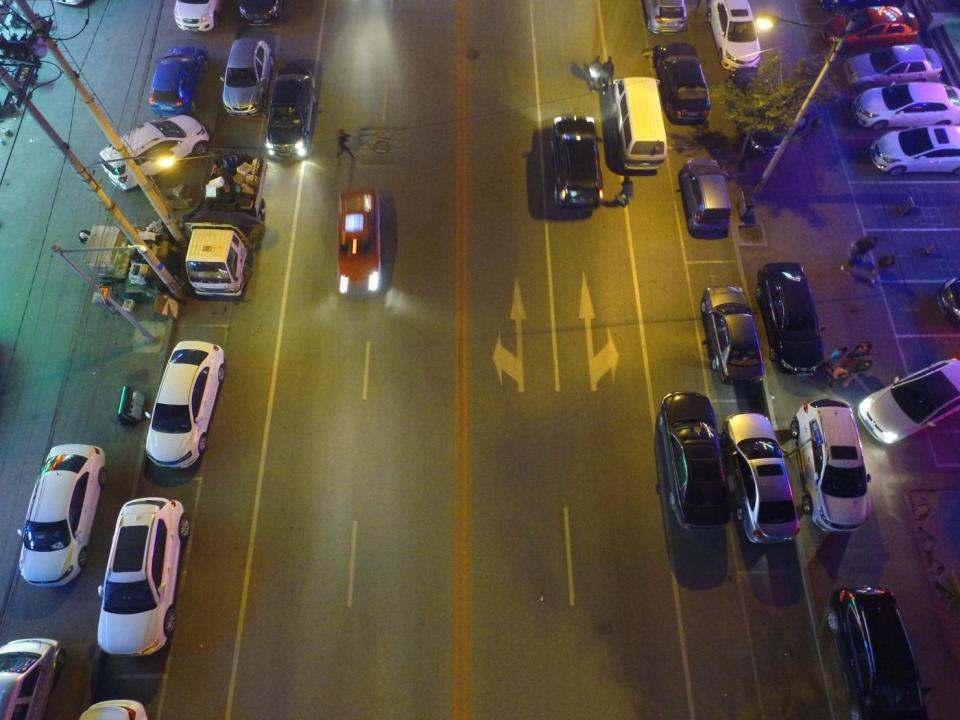car: (100, 496, 190, 658), (827, 586, 930, 717), (16, 443, 106, 588), (655, 392, 733, 534), (788, 400, 870, 533), (144, 339, 226, 468), (722, 414, 802, 542), (859, 358, 957, 447), (754, 262, 826, 376), (695, 286, 767, 387), (726, 67, 790, 157), (854, 81, 960, 130), (336, 189, 384, 297), (652, 42, 713, 125), (0, 640, 65, 714), (268, 67, 316, 164), (871, 123, 960, 174), (846, 42, 942, 88), (148, 45, 212, 112), (219, 38, 273, 116), (825, 6, 917, 51), (707, 0, 763, 72), (641, 0, 687, 35), (172, 0, 220, 33), (237, 1, 283, 26)
van: (187, 154, 263, 302), (99, 115, 208, 192), (613, 77, 668, 171), (552, 116, 608, 206), (677, 156, 732, 235)
